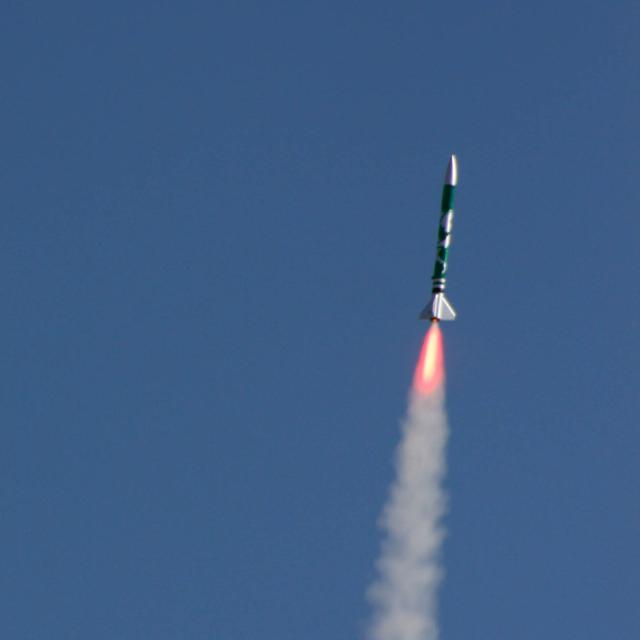Rocket: (416, 153, 459, 323)
